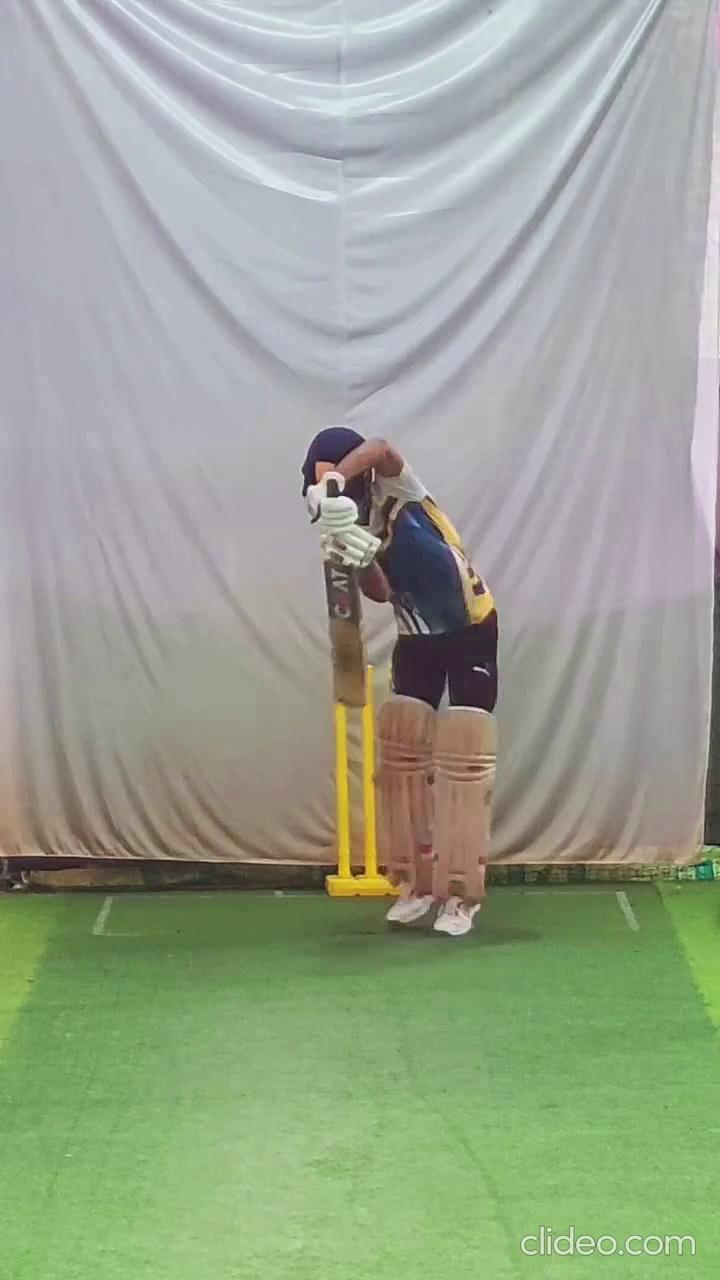bat: (322, 557, 370, 712)
